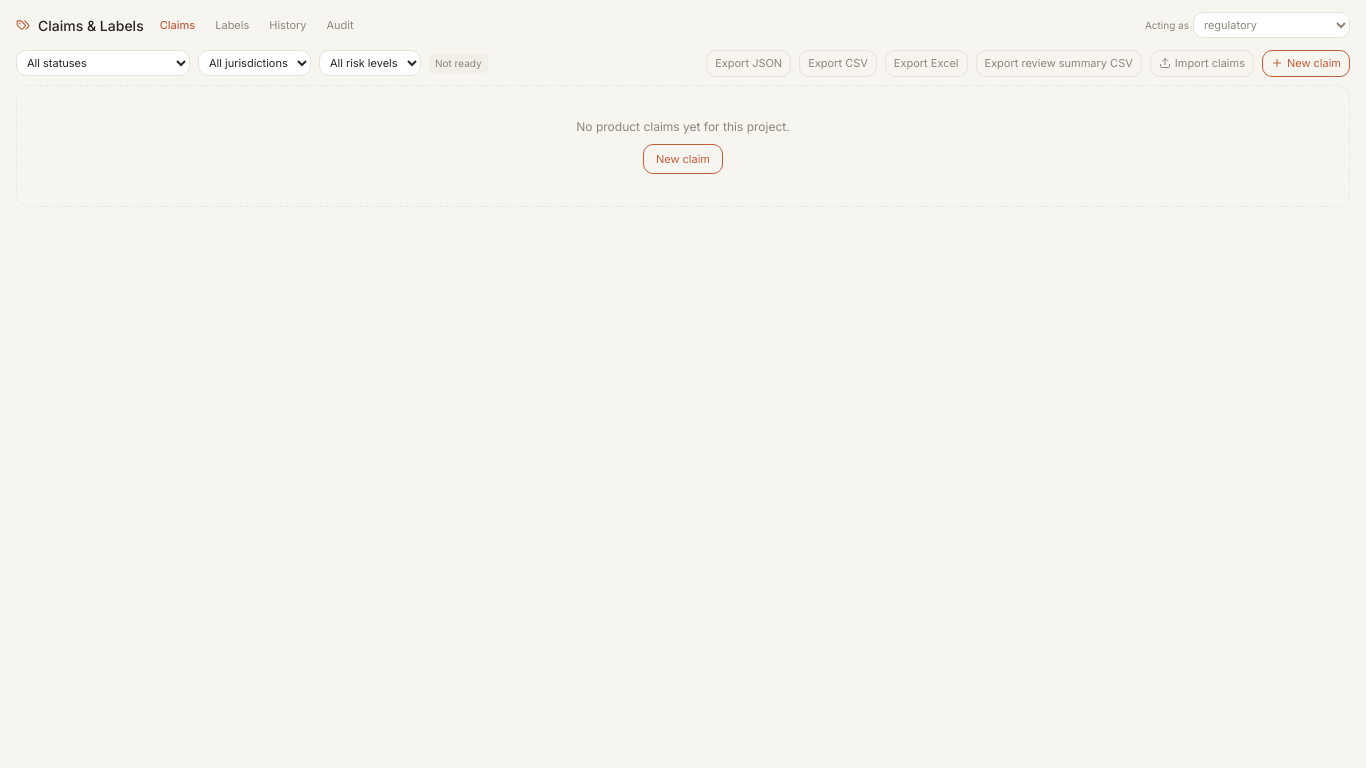
Scenario: ClaimsLabelsPanel — claim creation › creates a claim bound to the selected version and jurisdiction, auto-classifying its category
Click the button "New claim" in the row of "Not ready" at coordinates (1306, 63), box [1262,50,1350,76]
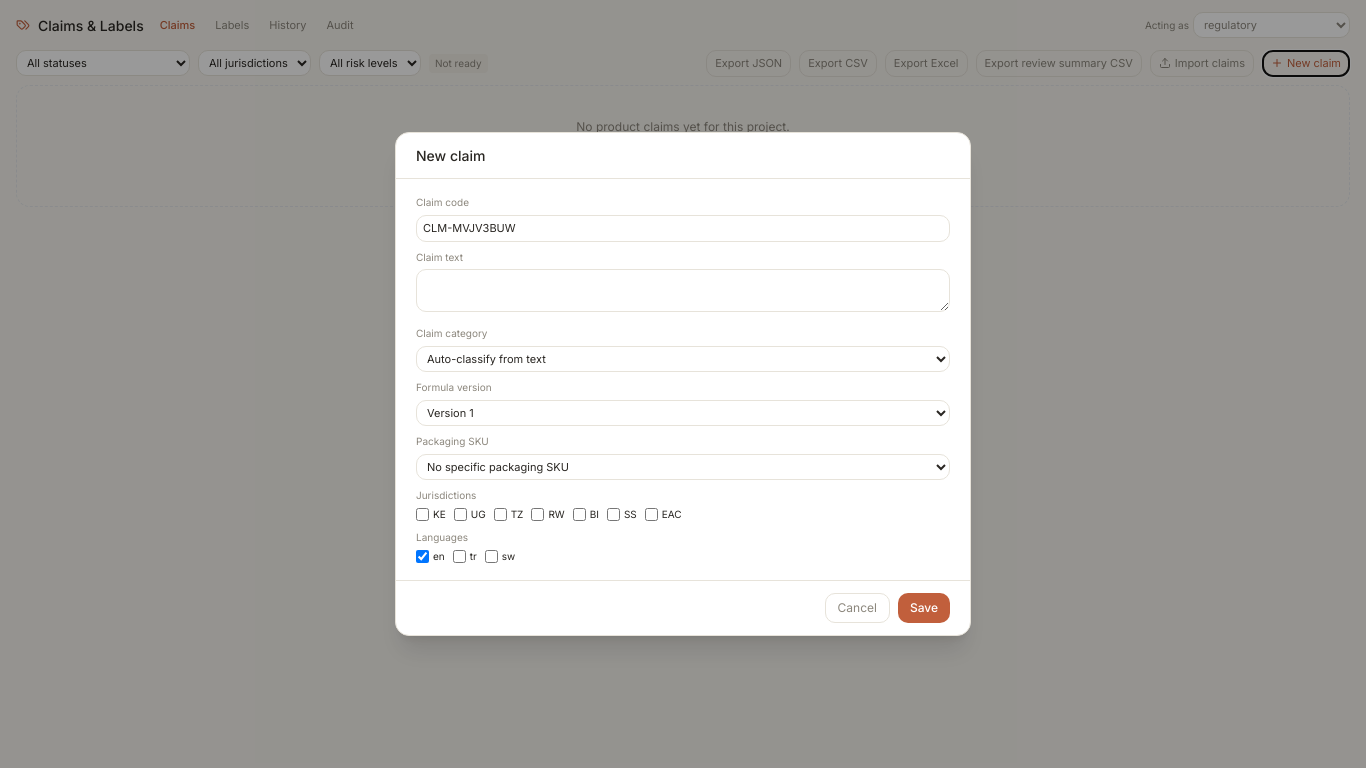
Type "Kills 99.9% of bacteria" into the text box labelled "Claim text" at coordinates (683, 290), box [416,269,950,312]
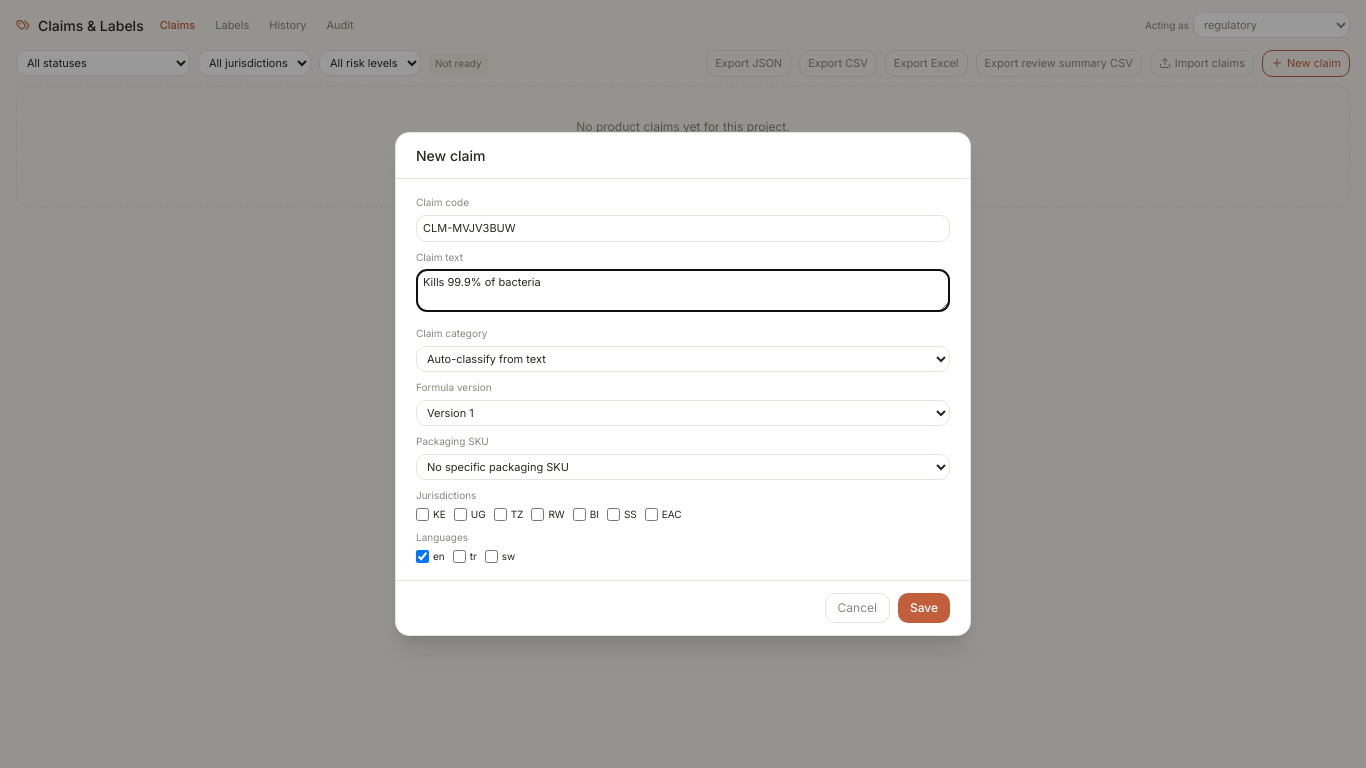
Select "Version 1" in the dropdown labelled "Formula version" at coordinates (683, 413), box [416,400,950,426]
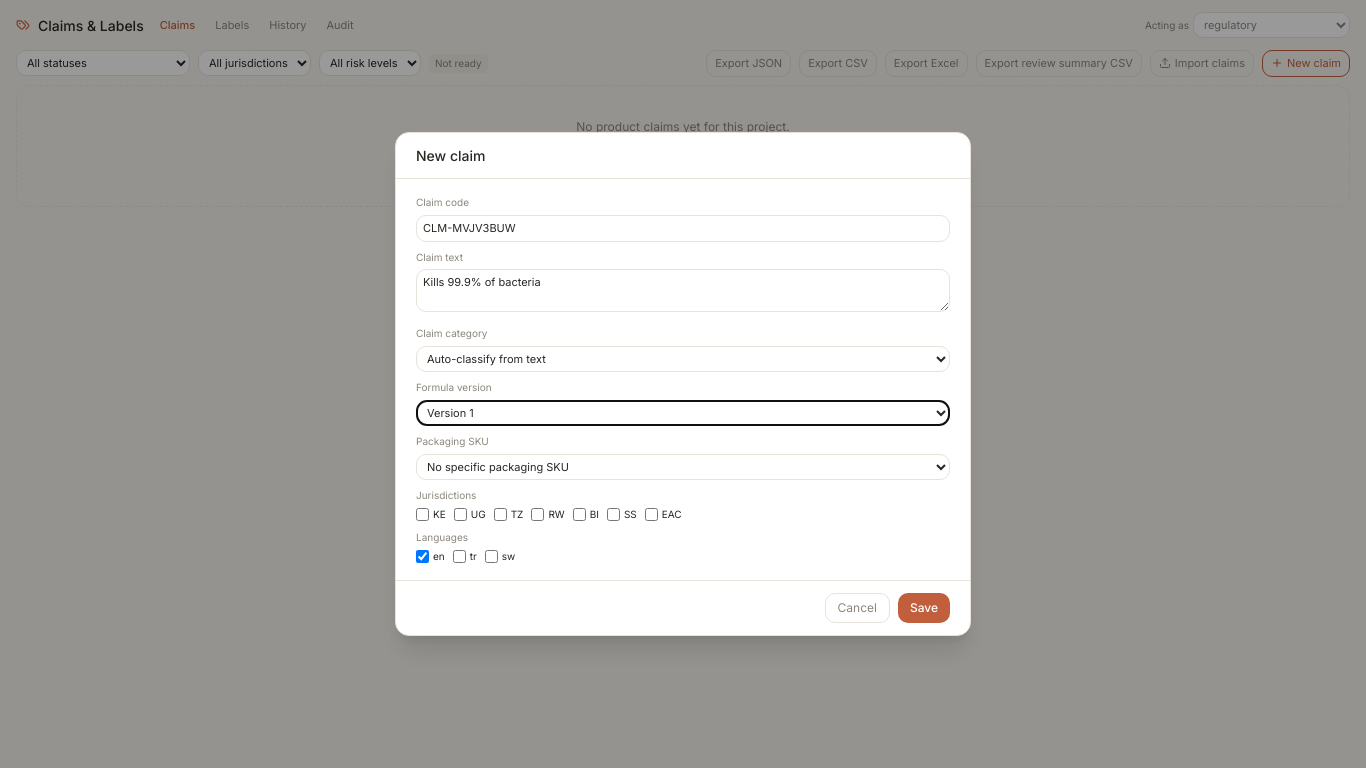
Click the checkbox labelled "KE" at coordinates (422, 514), box [416,508,429,521]
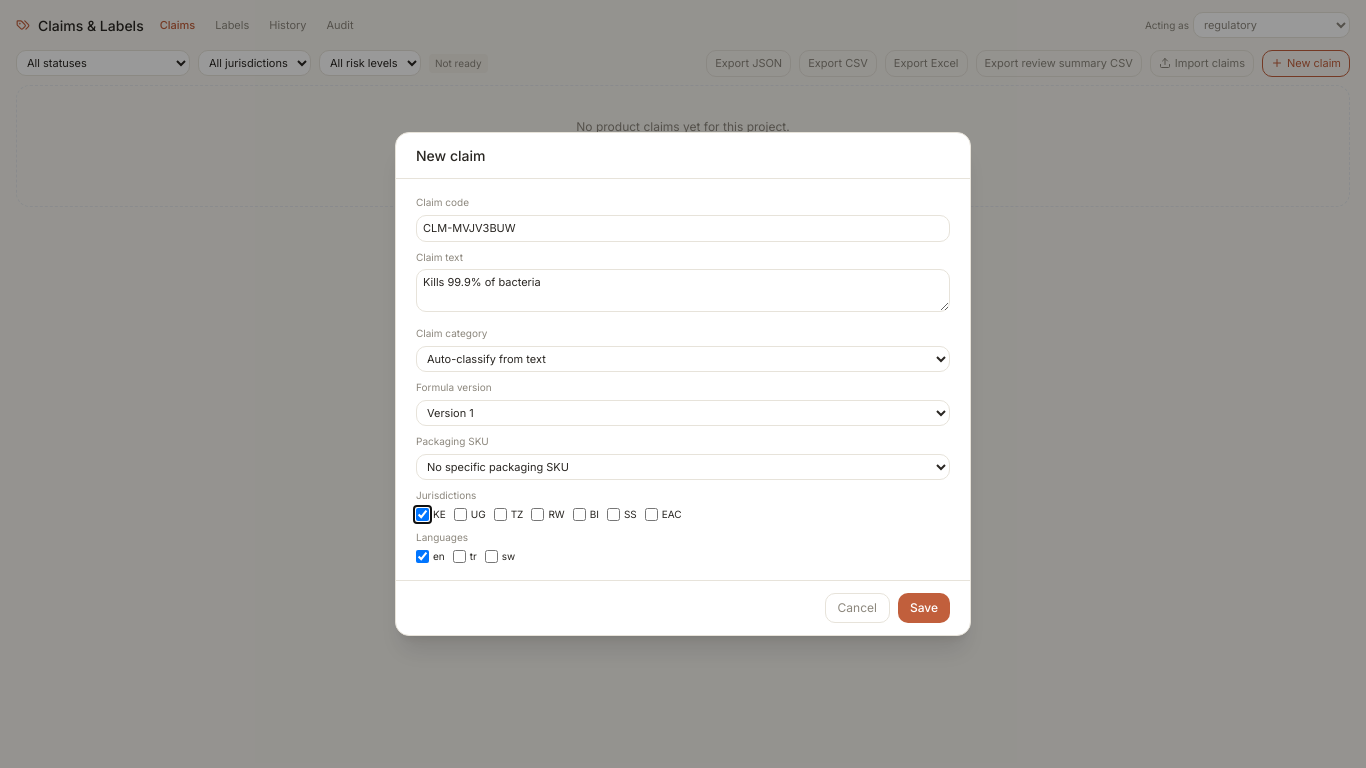
Click the button "Save" at coordinates (924, 608), box [898,593,950,623]
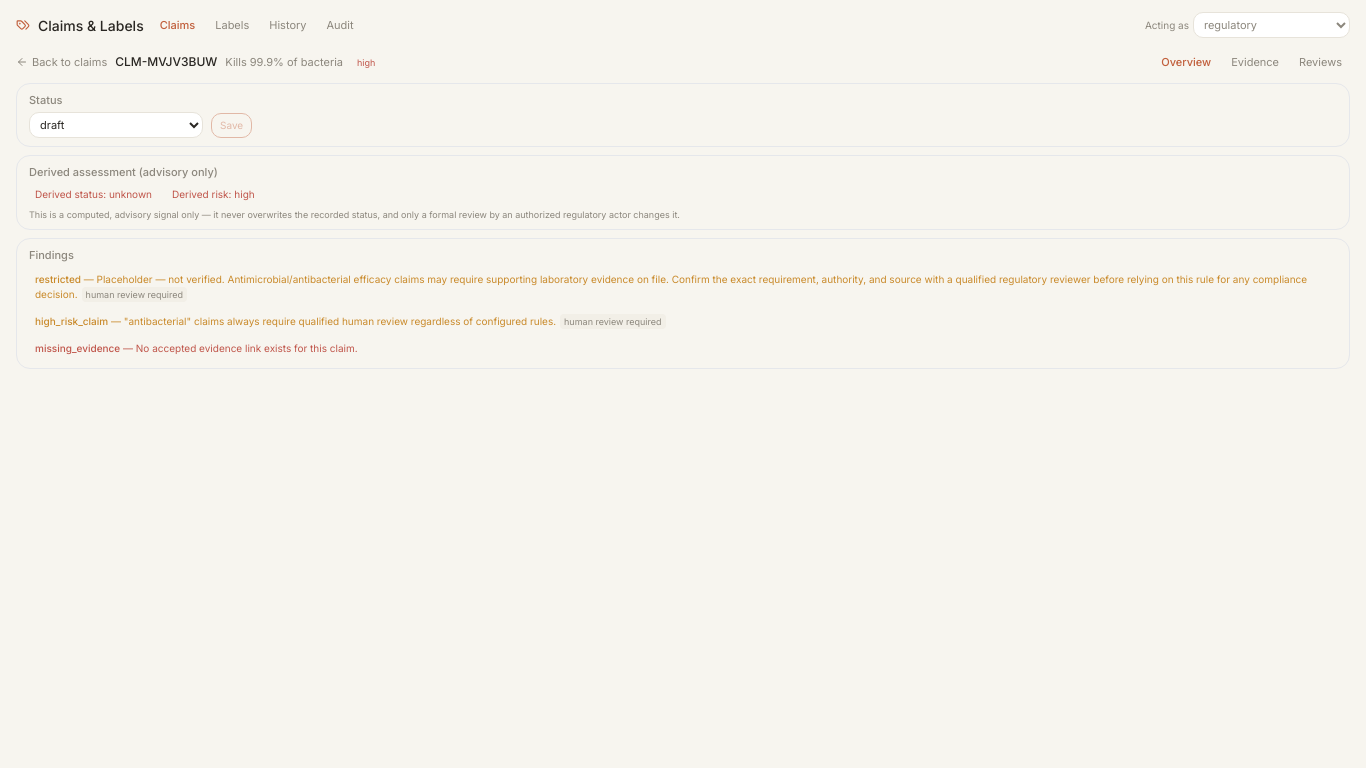
expect the text "CLM-" is shown: met, box [115,54,217,69]
